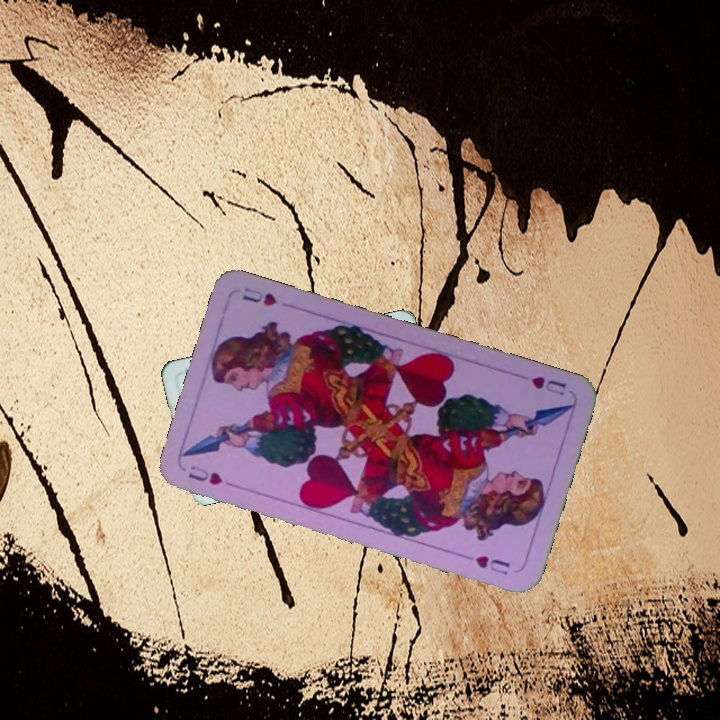HU: (527, 372, 569, 399), (184, 461, 225, 488)
